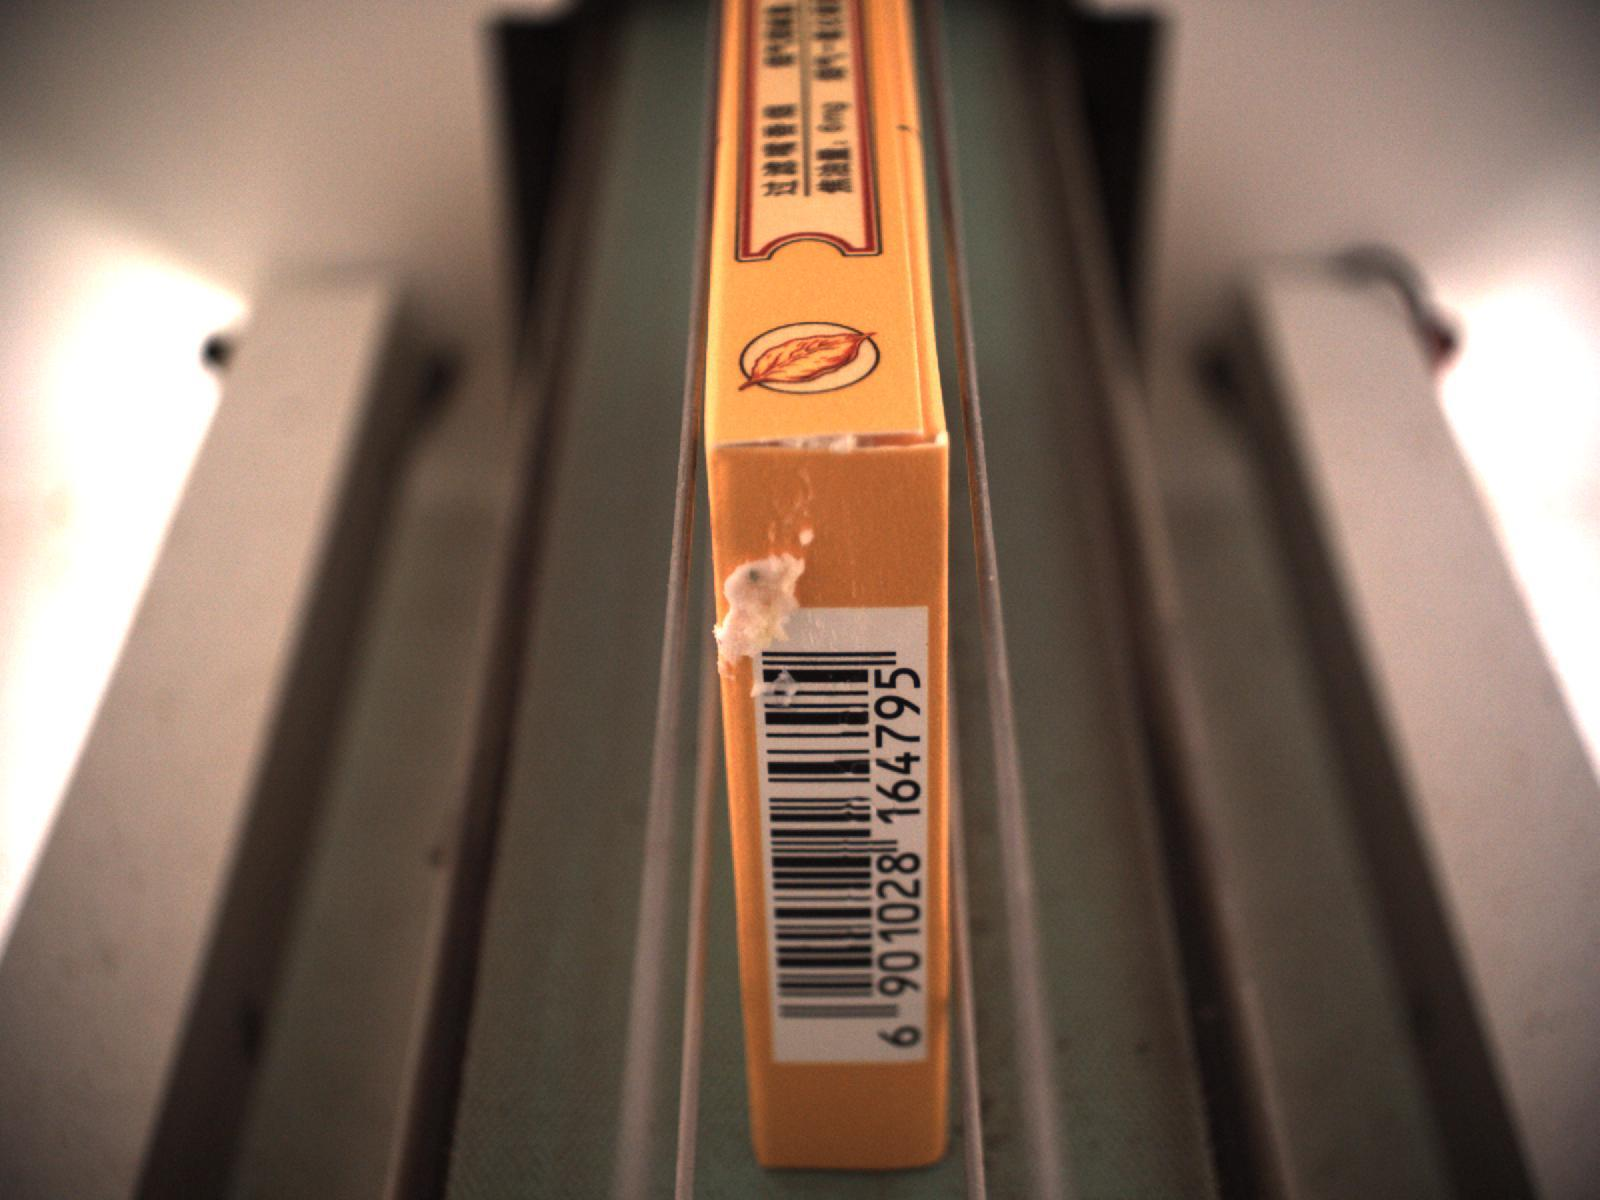gumDirt: (711, 553, 808, 681), (763, 461, 813, 545), (751, 669, 797, 708), (781, 434, 860, 453)
skewed_upper_3: (702, 424, 949, 458)
